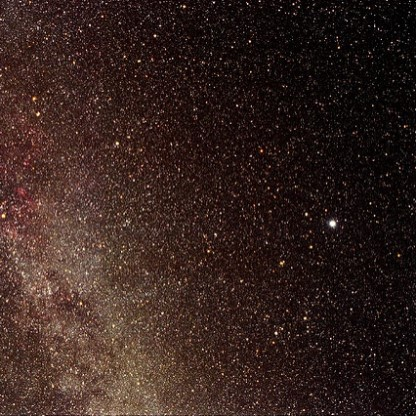Lyra: (274, 254, 288, 271), (325, 215, 339, 232), (305, 241, 316, 256), (271, 326, 281, 342), (299, 311, 310, 324), (301, 205, 310, 220)
